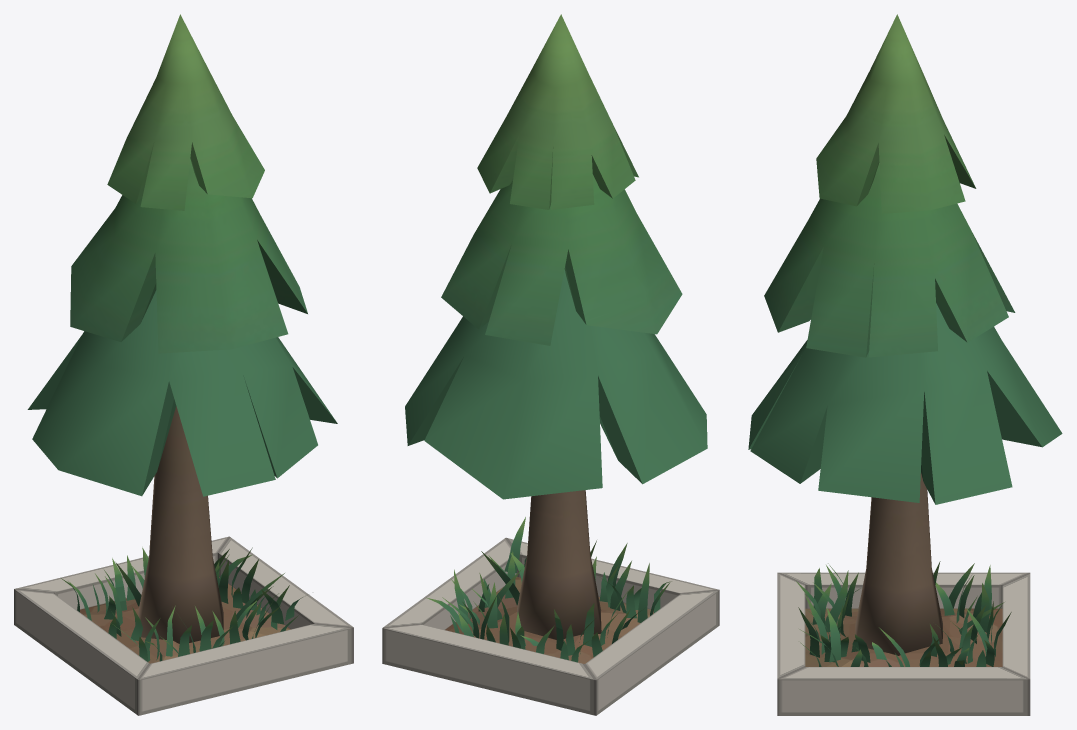
The model's file is Tree_02.FBX.
3 renders of one model, left to right at view 1: azimuth 30°, elevation 25°; view 2: azimuth 150°, elevation 25°; view 3: azimuth 270°, elevation 25°, orthographic. The views are drawn at different scales.
Parts seen in each view (by area): view 1: Tree_01; view 2: Tree_01; view 3: Tree_01.
Part boxes in pixels (x1,y1,x2,y2): Tree_01: (14, 14, 353, 715); Tree_01: (382, 14, 719, 715); Tree_01: (748, 14, 1062, 715).
Bounding box in the file's own units: 42.43 × 41.55 × 94.12.
